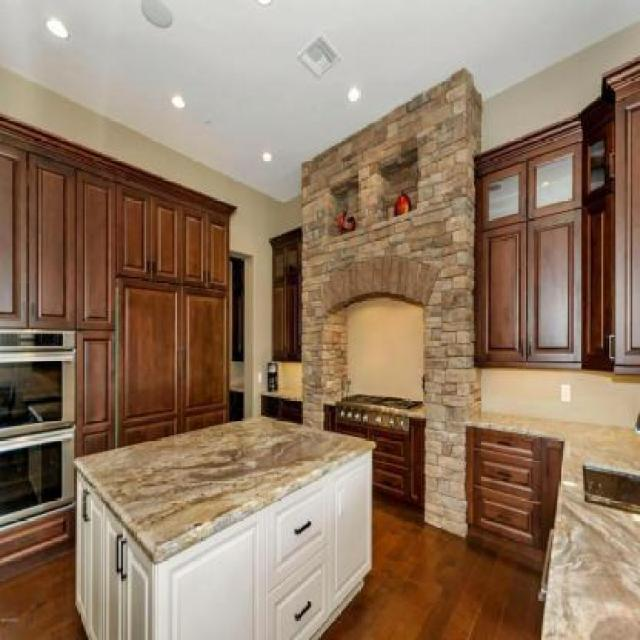Floor: (319, 489, 545, 639), (1, 552, 88, 639)
